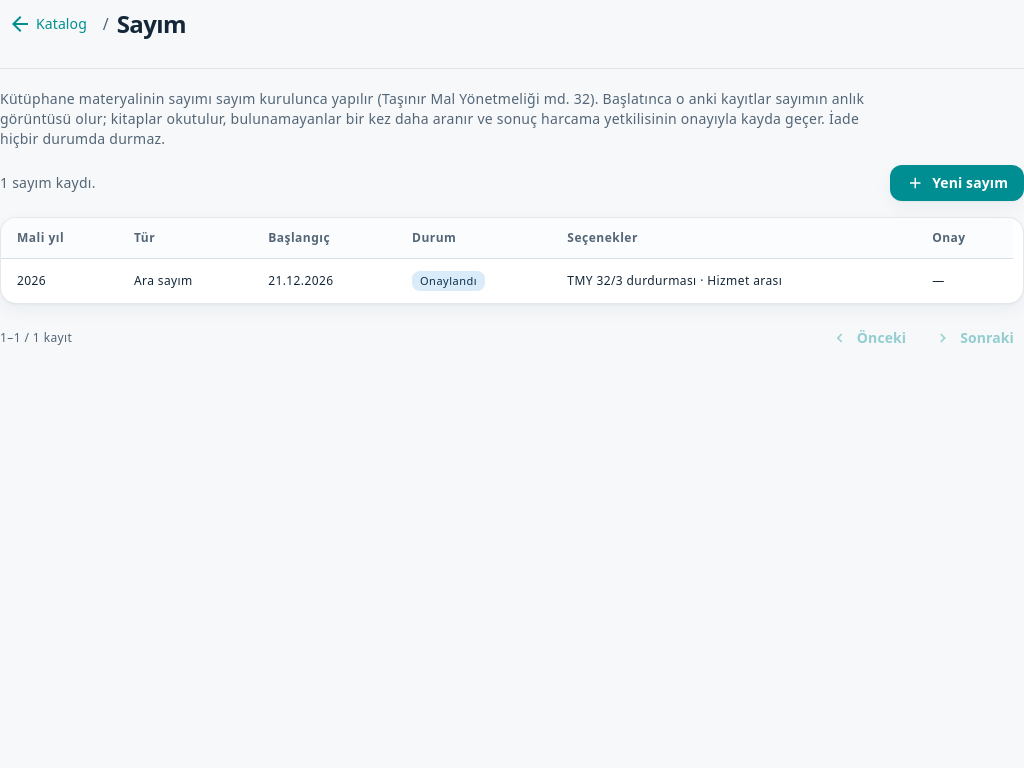
Test: Sayım listesi › sayımlar listelenir; canlı sayım yoksa “Yeni sayım” taslak açar ve ayrıntıya geçer
This screenshot has width=1024, height=768.
Expected: the text "Onaylandı" is shown, [412,271,485,291]
Expected: the text "Kütüphane materyalinin sayımı sayım kurulunca yapılır" is shown, [0,89,864,148]
Click the button "Yeni sayım". click: (957, 183)
box: [890,165,1023,201]
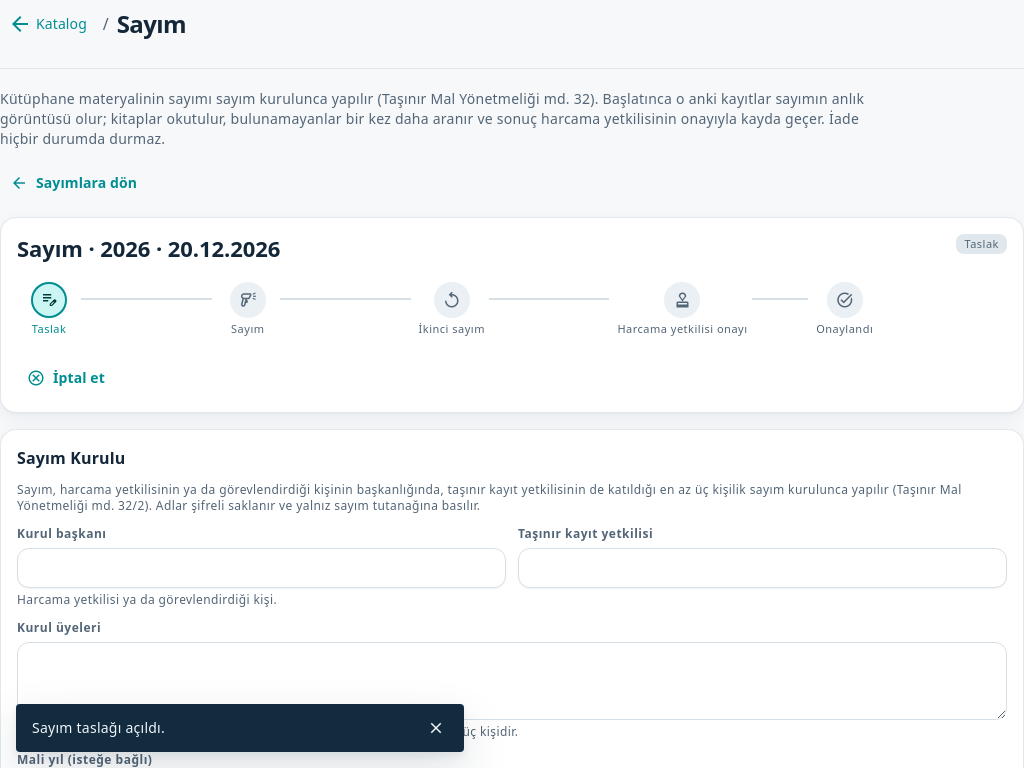
Now the heading "Sayım Kurulu" is shown, box [17,447,126,469]
